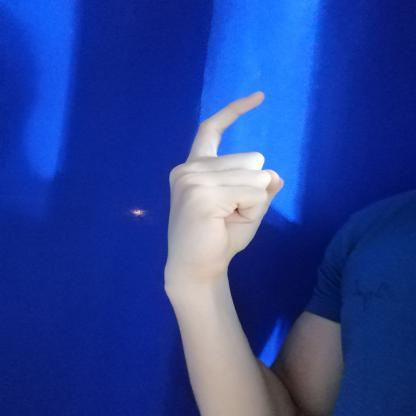RAA: (154, 85, 293, 282)
